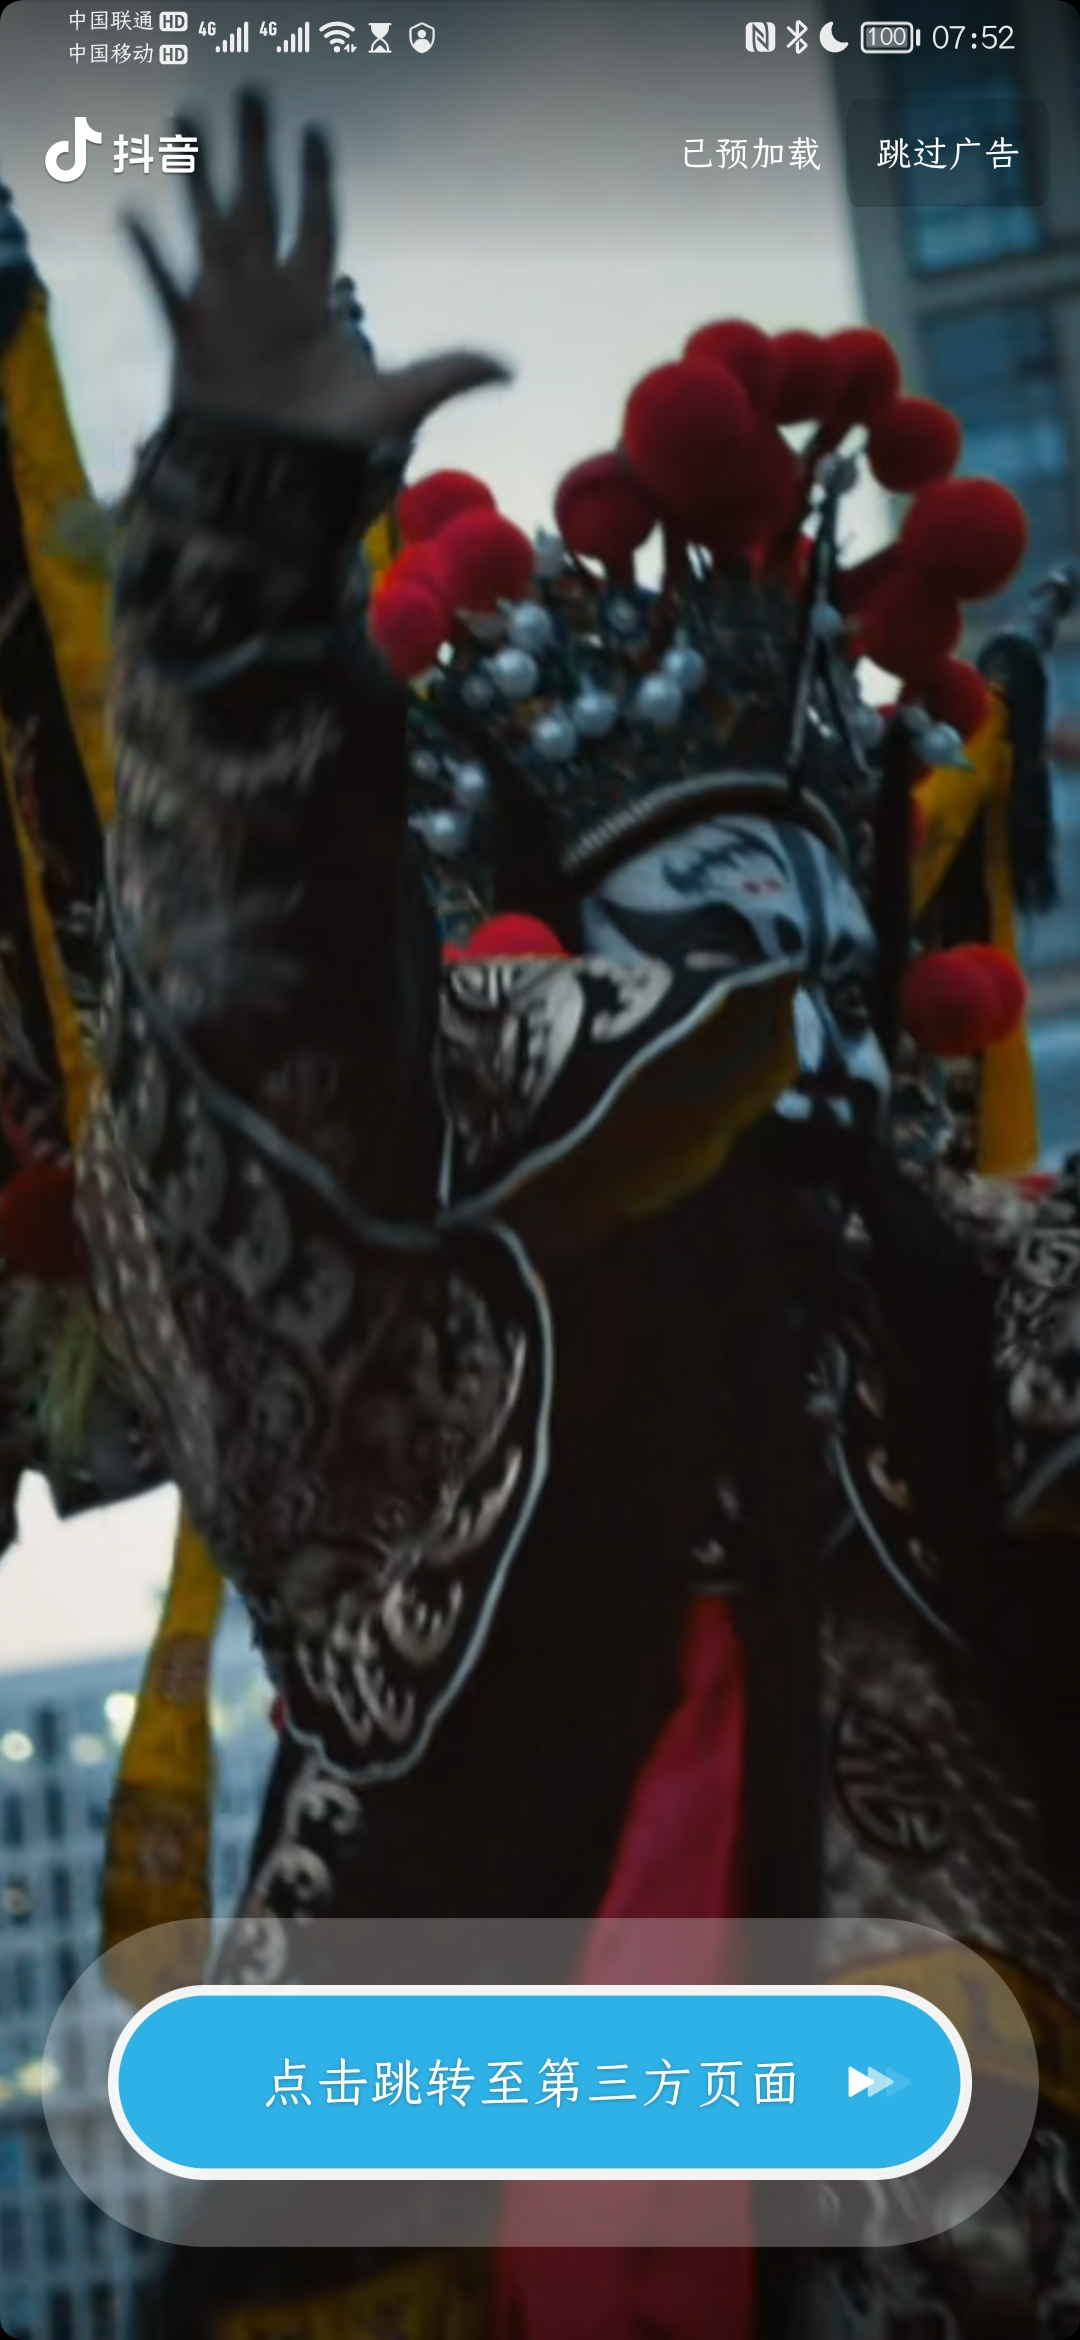skip: (873, 125, 1035, 184)
